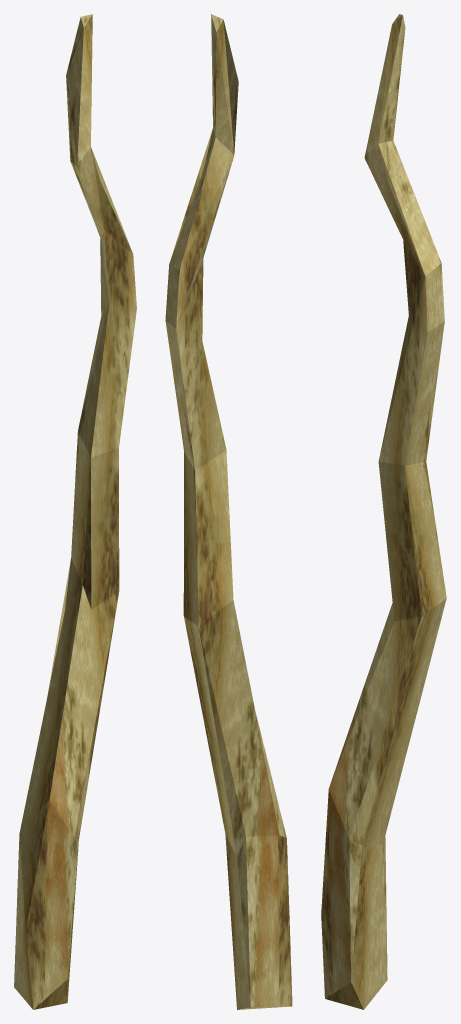
The model's file is Forest_1_Euc_3.gltf.
3 renders of one model, left to right at view 1: azimuth 30°, elevation 25°; view 2: azimuth 210°, elevation 25°; view 3: azimuth 330°, elevation 25°, orthographic. The views are drawn at different scales.
Parts seen in each view (by area): view 1: Forest_1_Euc_3; view 2: Forest_1_Euc_3; view 3: Forest_1_Euc_3.
Boxes of the visible parts, <box> form: Forest_1_Euc_3: <box>14,14,136,1009</box>; Forest_1_Euc_3: <box>165,14,292,1009</box>; Forest_1_Euc_3: <box>321,14,446,1009</box>.
Size of the model in its own units: 3.04 by 25.62 by 1.63.
Materials: 1 (1 with a texture image).
